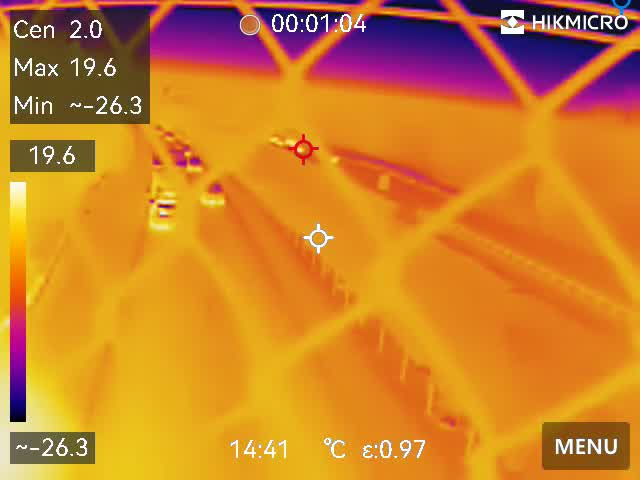vehicle: (149, 188, 182, 228), (204, 180, 226, 209), (183, 155, 205, 175)
